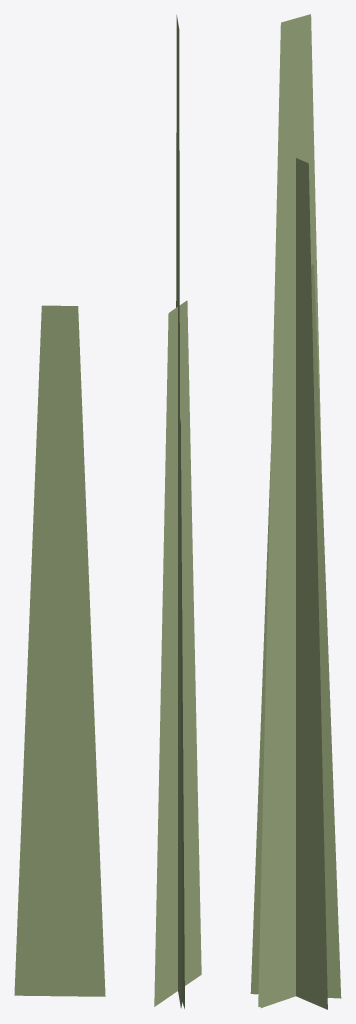
File: rough_tuft_v0_far.gltf
3 renders of one model, left to right at view 1: azimuth 90°, elevation 25°; view 2: azimuth 150°, elevation 25°; view 3: azimuth 270°, elevation 25°, orthographic.
Visible parts, largest first — view 1: cover; view 2: cover; view 3: cover.
Part boxes in pixels (x1,y1,x2,y2): cover: [14, 305, 105, 996]; cover: [154, 15, 201, 1008]; cover: [250, 14, 341, 1009].
Size of the model in its own units: 0.0356 by 0.5922 by 0.05.
